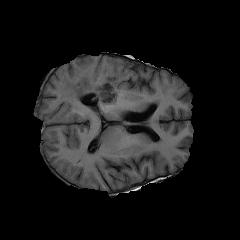glioma: (60, 67, 130, 116)
